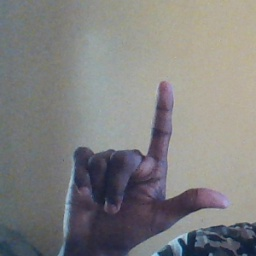L: (59, 77, 229, 250)
